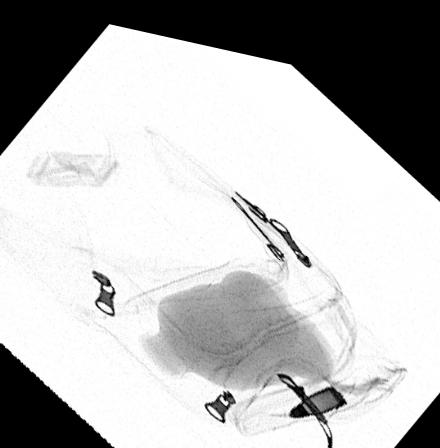Bullet: (286, 371, 347, 405)
